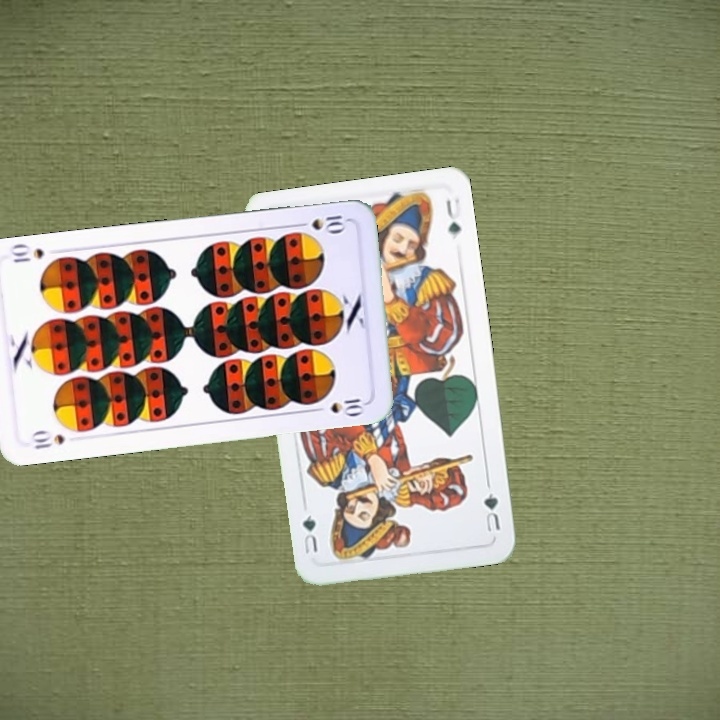GU: (479, 479, 503, 535)
S10: (291, 210, 350, 235), (28, 427, 68, 452)
